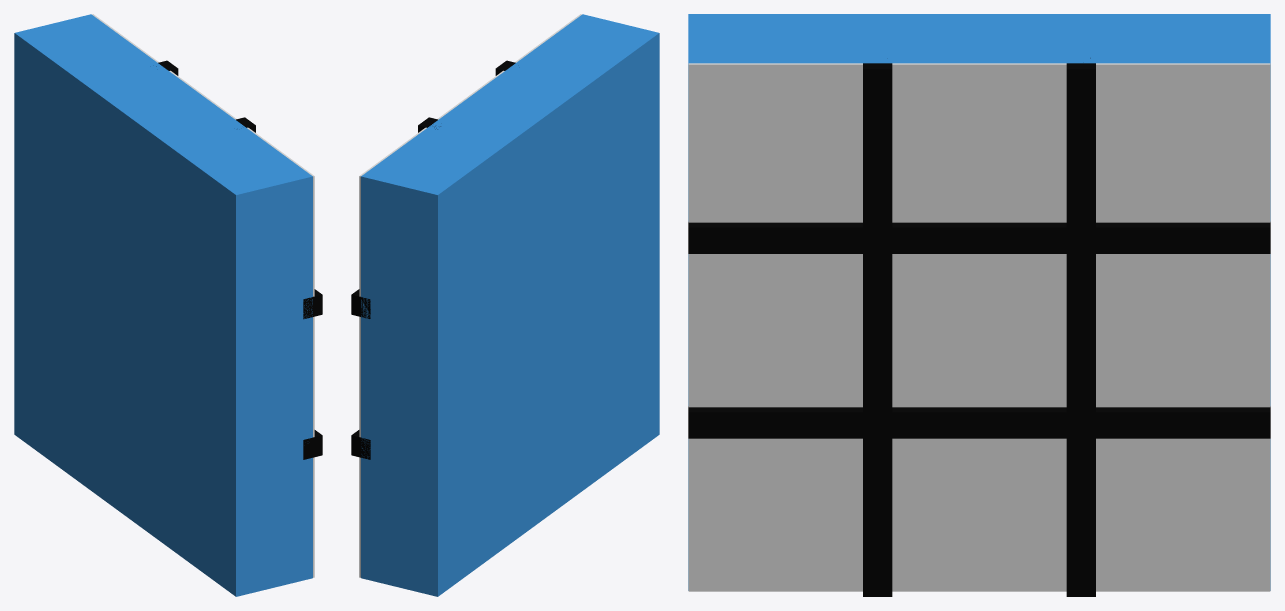
3 renders of one model, left to right at view 1: azimuth 30°, elevation 25°; view 2: azimuth 150°, elevation 25°; view 3: azimuth 270°, elevation 25°, orthographic. The views are drawn at different scales.
Visible parts, largest first — view 1: Cube, Cube.001, Cube.003; view 2: Cube, Cube.003, Cube.001; view 3: Cube, topright, topcenter, topleft, centercenter, bottomcenter, centerright, bottomright, centerleft, bottomleft, Cube.001, Cube.003 (+2 smaller).
Boxes of the visible parts, x1,y1,x2,y2 form: Cube: [14, 14, 312, 596]; Cube.001: [303, 289, 322, 319]; Cube.003: [303, 430, 322, 459]; Cube: [361, 14, 659, 596]; Cube.003: [351, 430, 370, 459]; Cube.001: [351, 289, 370, 318]; Cube: [688, 14, 1270, 590]; topright: [1096, 63, 1270, 222]; topcenter: [892, 63, 1066, 222]; topleft: [688, 63, 862, 222]; centercenter: [892, 254, 1066, 407]; bottomcenter: [892, 438, 1066, 591]; centerright: [1096, 254, 1270, 407]; bottomright: [1096, 438, 1270, 591]; centerleft: [688, 254, 862, 407]; bottomleft: [688, 438, 862, 591]; Cube.001: [688, 222, 1270, 253]; Cube.003: [688, 406, 1270, 438].
Size of the model in its own units: 2.25 by 10 by 10.
